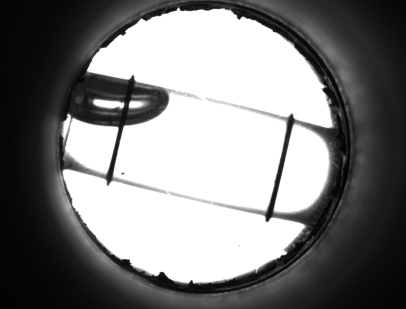line: (263, 135, 293, 206), (104, 135, 126, 167)
